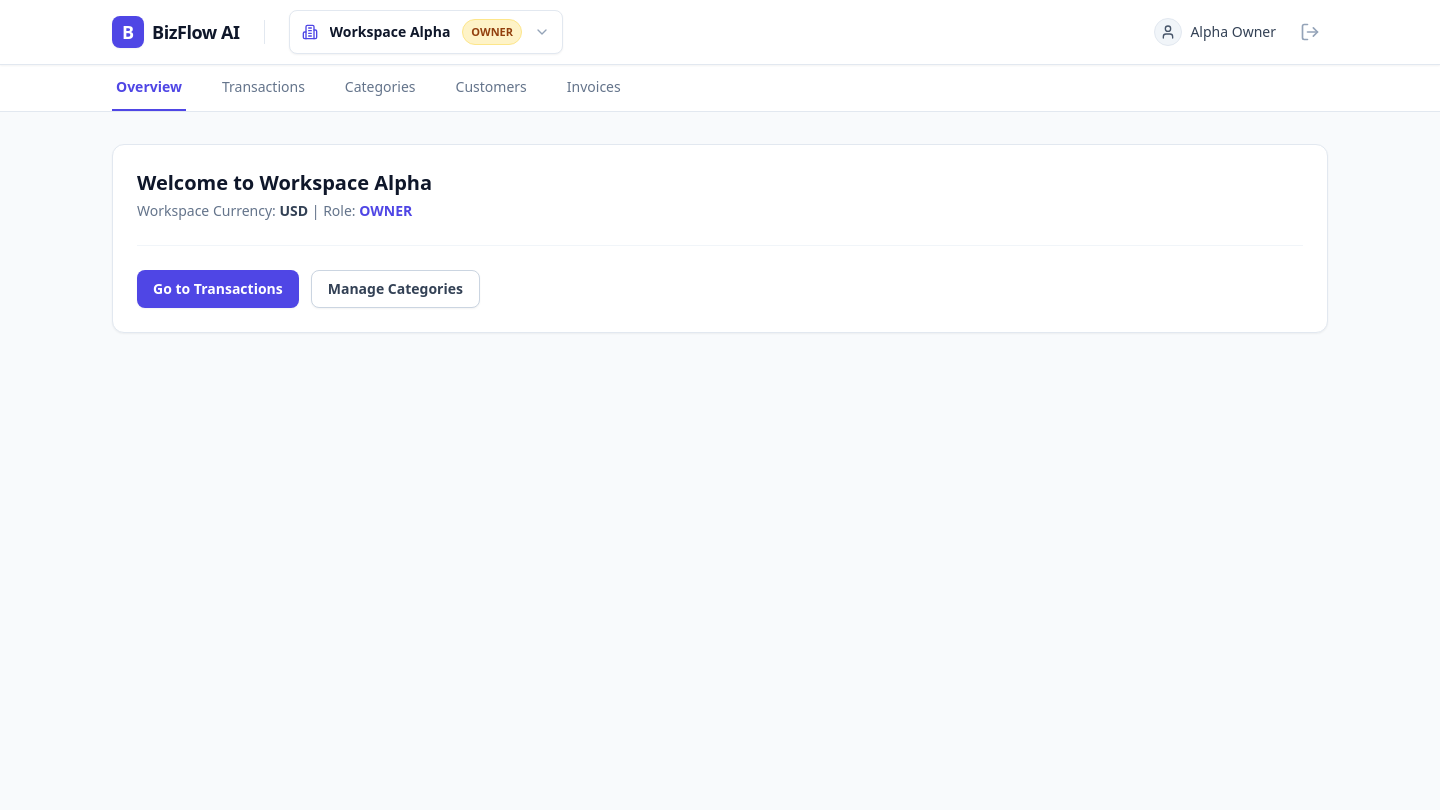
it: Layout Navigation, Concurrency & Category Regression Suite › Scenario 13: Tab Navigation switches between Overview, Transactions, Categories, Customers
expect the heading "Welcome to Workspace Alpha" is shown: met, box x1=137 y1=169 x2=432 y2=196
# Click Transactions tab
Step 1. Click the tab "Transactions" → (263, 88), box x1=218 y1=65 x2=309 y2=111
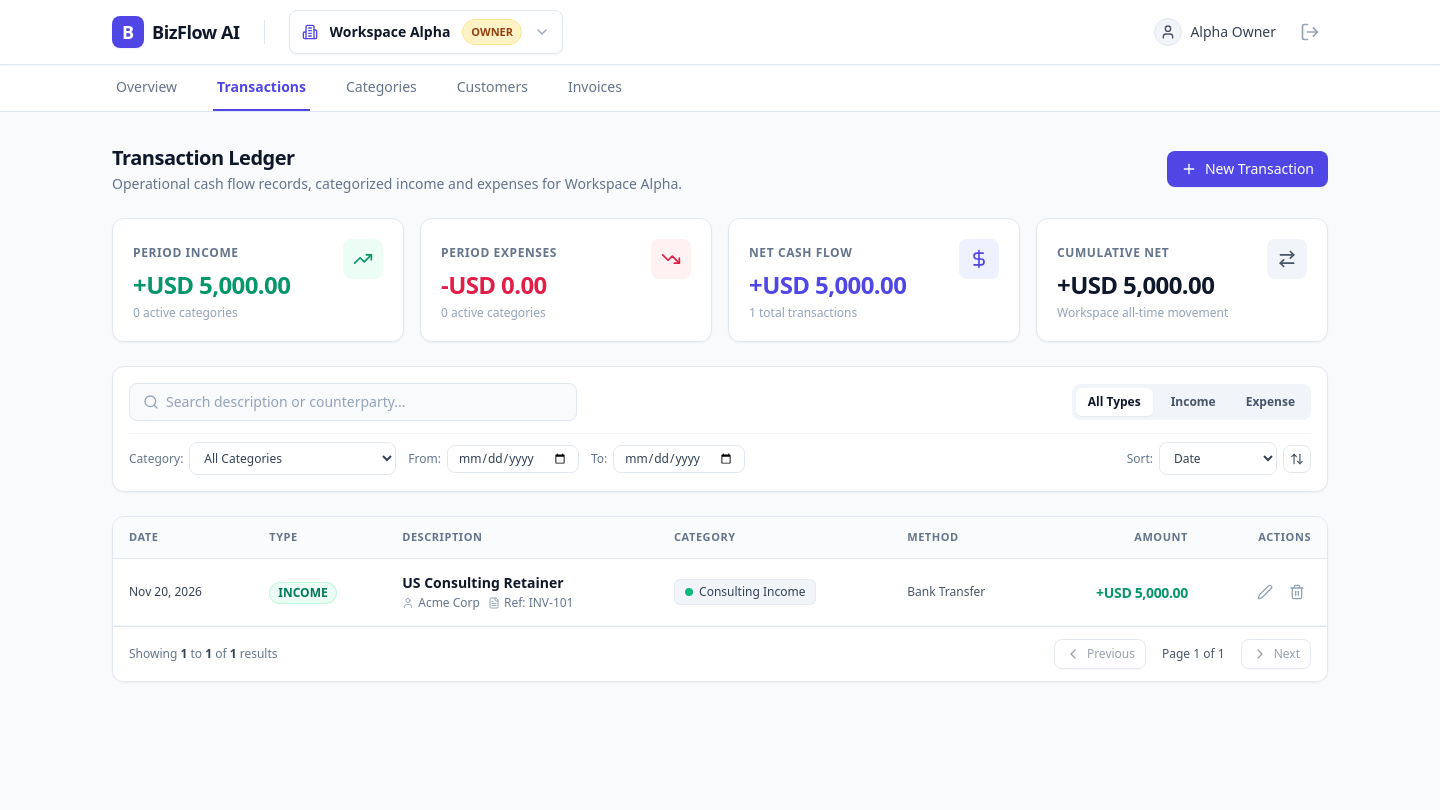
expect the text "US Consulting Retainer" is shown: met, box x1=402 y1=572 x2=564 y2=592
# Click Categories tab
Step 2. Click the tab "Categories" → (381, 88), box x1=342 y1=65 x2=421 y2=111
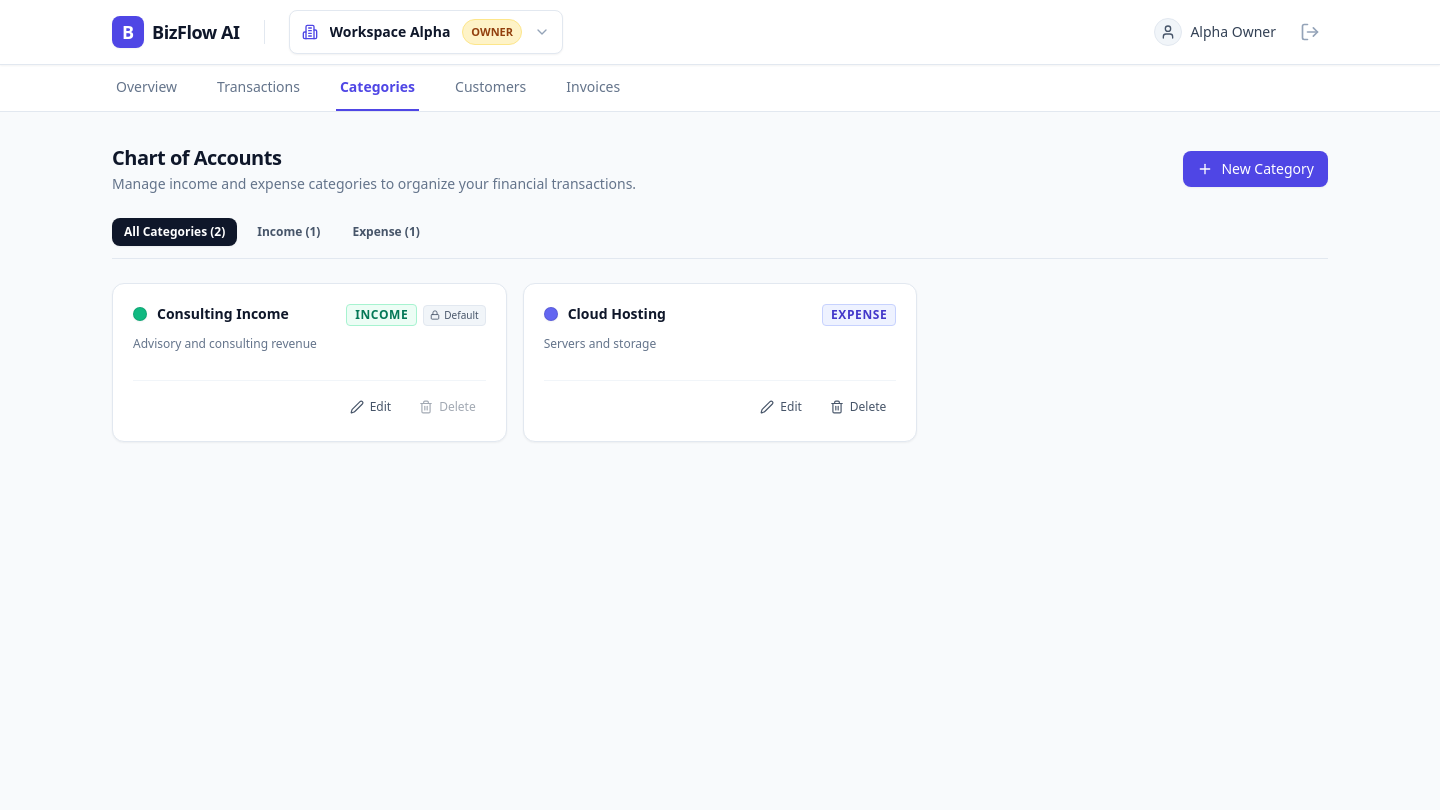
expect the heading "Chart of Accounts" is shown: met, box x1=112 y1=144 x2=281 y2=171
# Click Customers tab
Step 3. Click the tab "Customers" → (491, 88), box x1=451 y1=65 x2=530 y2=111
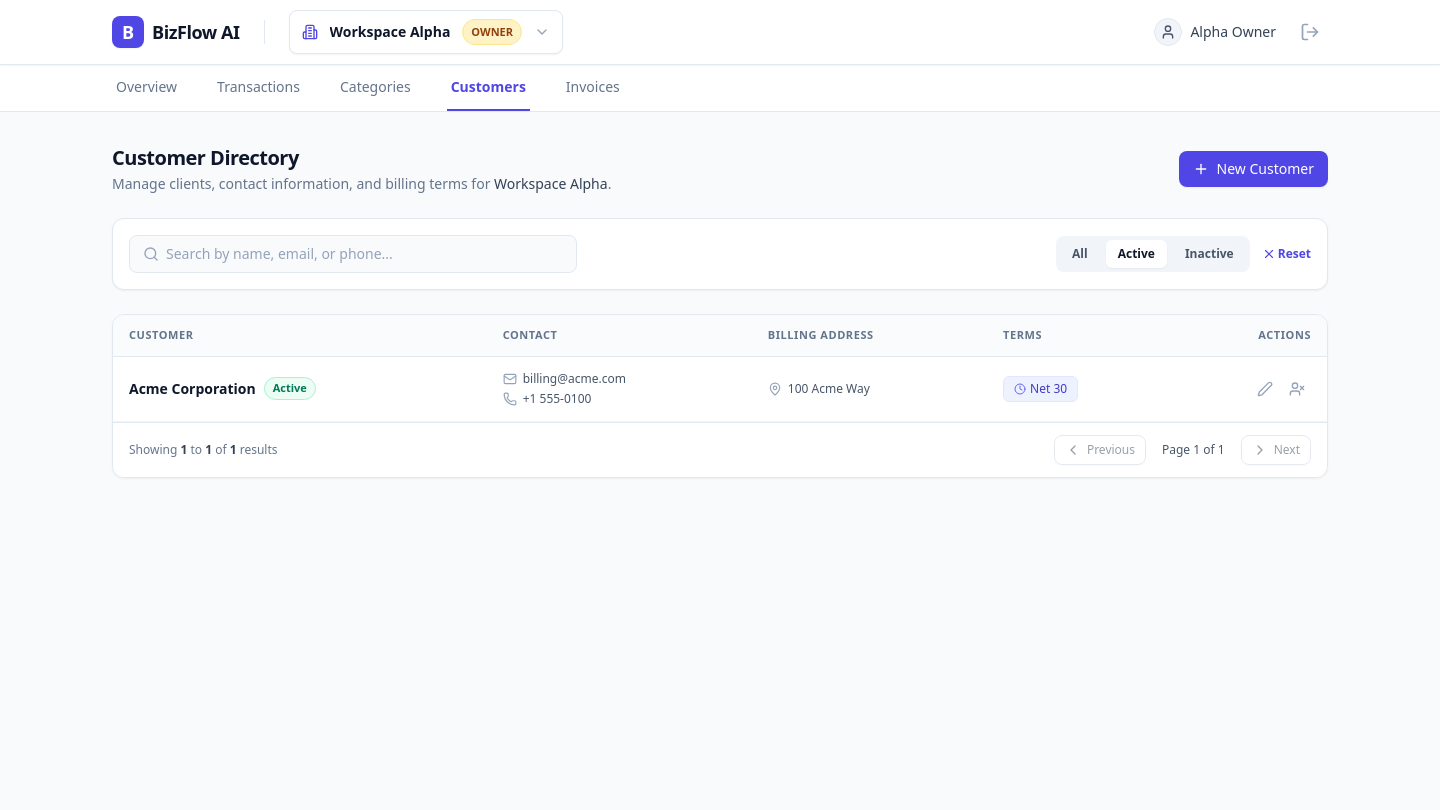
expect the heading "Customer Directory" is shown: met, box x1=112 y1=144 x2=299 y2=171
expect the text "Acme Corporation" is shown: met, box x1=129 y1=378 x2=256 y2=398
# Click Overview tab again
Step 4. Click the tab "Overview" → (147, 88), box x1=112 y1=65 x2=181 y2=111
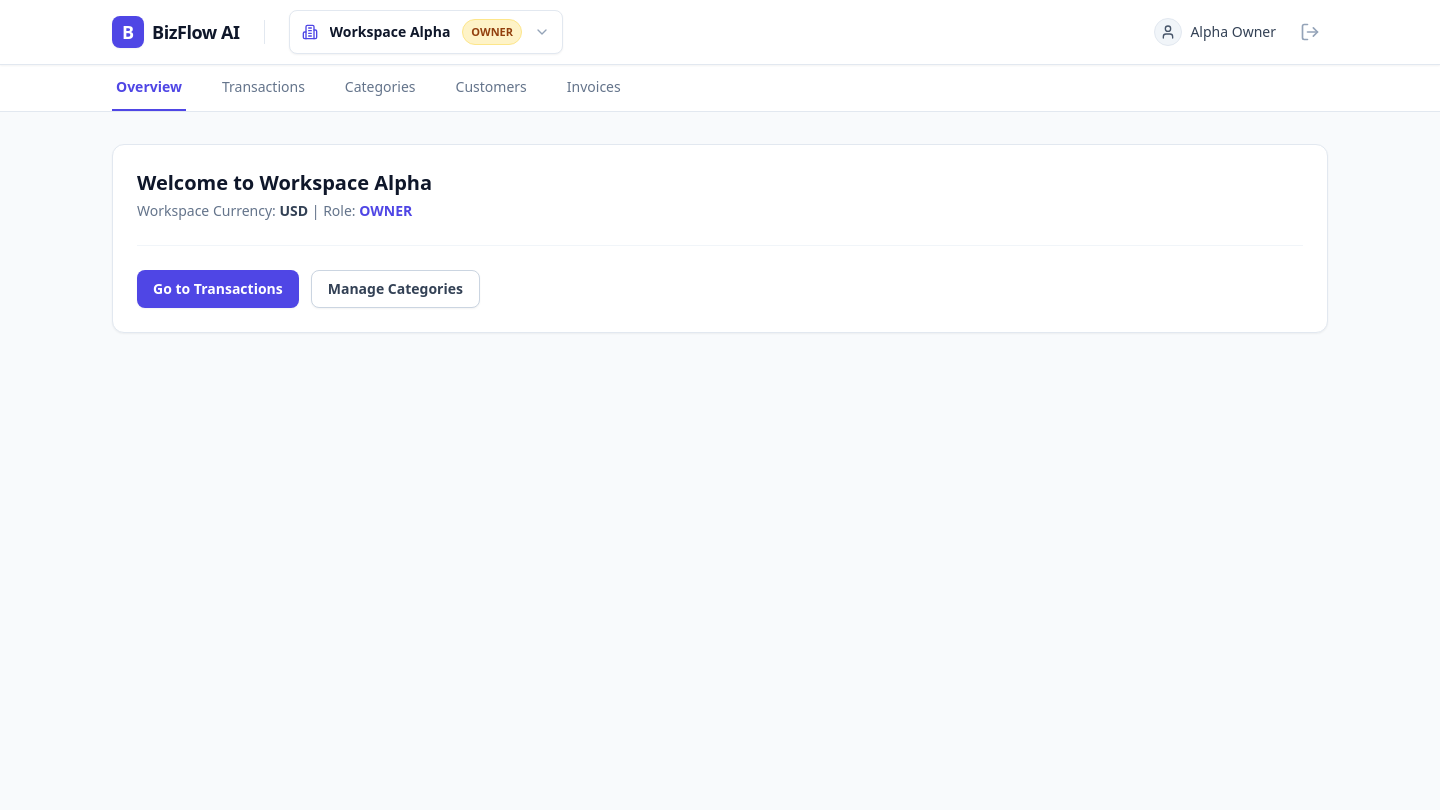
expect the heading "Welcome to Workspace Alpha" is shown: met, box x1=137 y1=169 x2=432 y2=196
